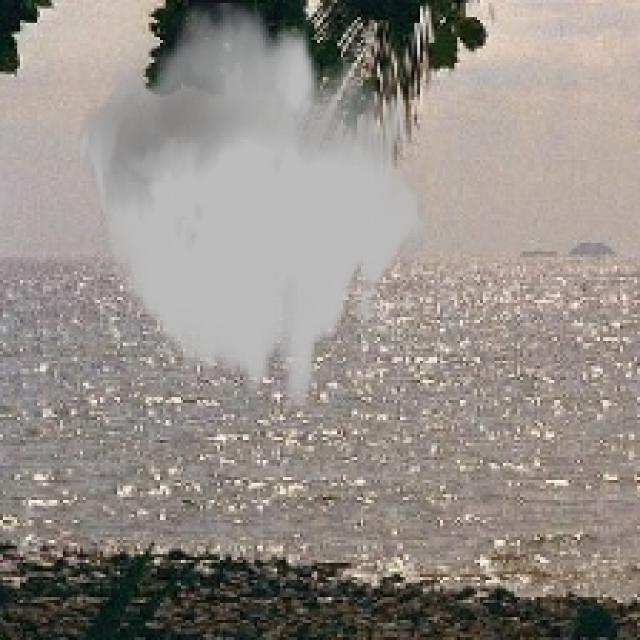smoke: (74, 3, 429, 406)
